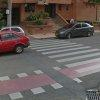crosswalks: (32, 41, 99, 74)
